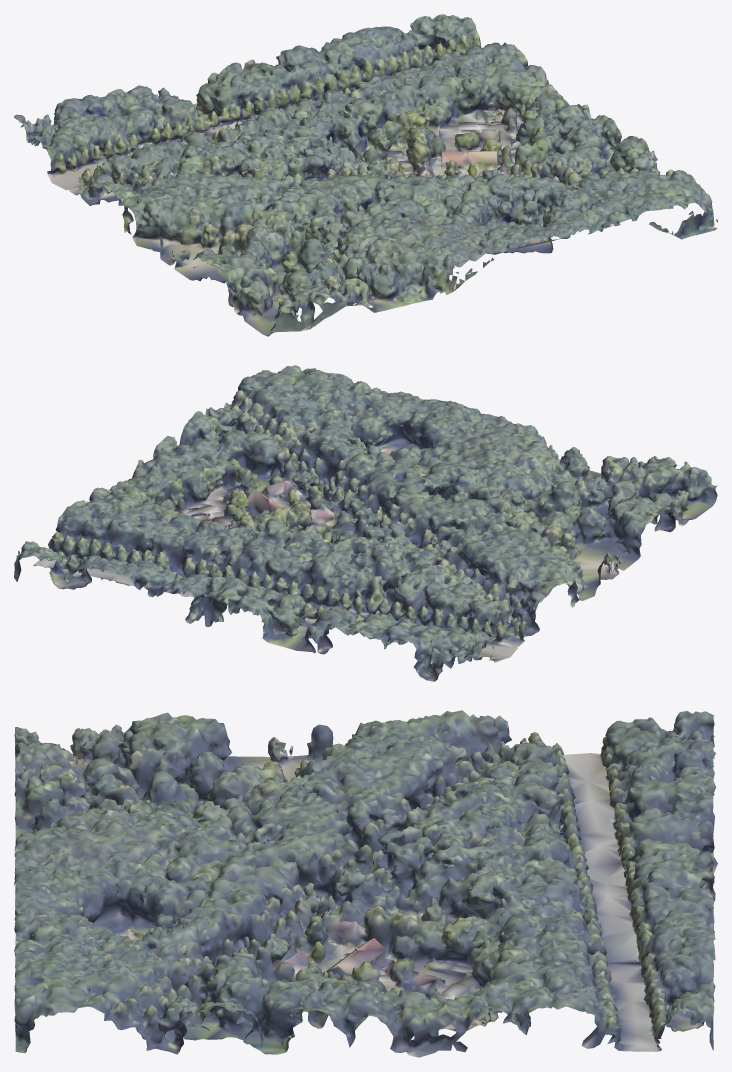
Rendered from tile-3887_58193.glb.
3 views of the same model, one above another, from view 1: azimuth 30°, elevation 25°; view 2: azimuth 150°, elevation 25°; view 3: azimuth 270°, elevation 25° (orthographic). The views are drawn at different scales.
Visible parts, largest first — view 1: world; view 2: world; view 3: world.
Boxes of the visible parts, x1=… form: world: x1=14, y1=14, x2=717, y2=336; world: x1=14, y1=365, x2=717, y2=681; world: x1=14, y1=710, x2=717, y2=1057.
Size of the model in its own units: 370 by 35.07 by 364.
